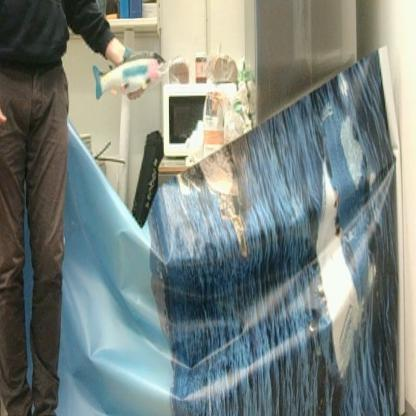rubberfish: (89, 42, 174, 107)
